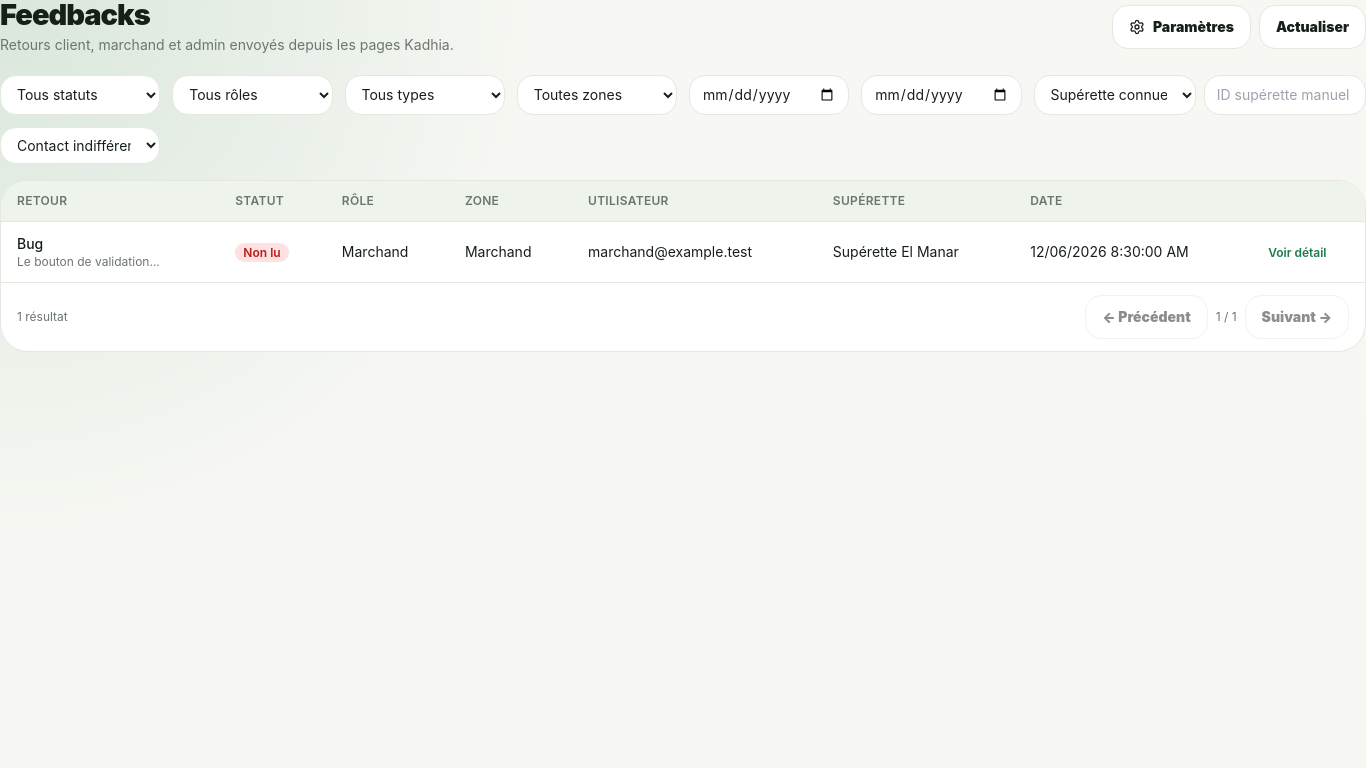
AdminFeedbacksPage › ouvre le détail via getAdminFeedback et rend les informations complètes
What coordinates should you click on to do the following:
click the button "Voir détail"
I would click on:
 (1297, 253)
Its box is top-left (1268, 245), bottom-right (1326, 261).
(page scrolled)
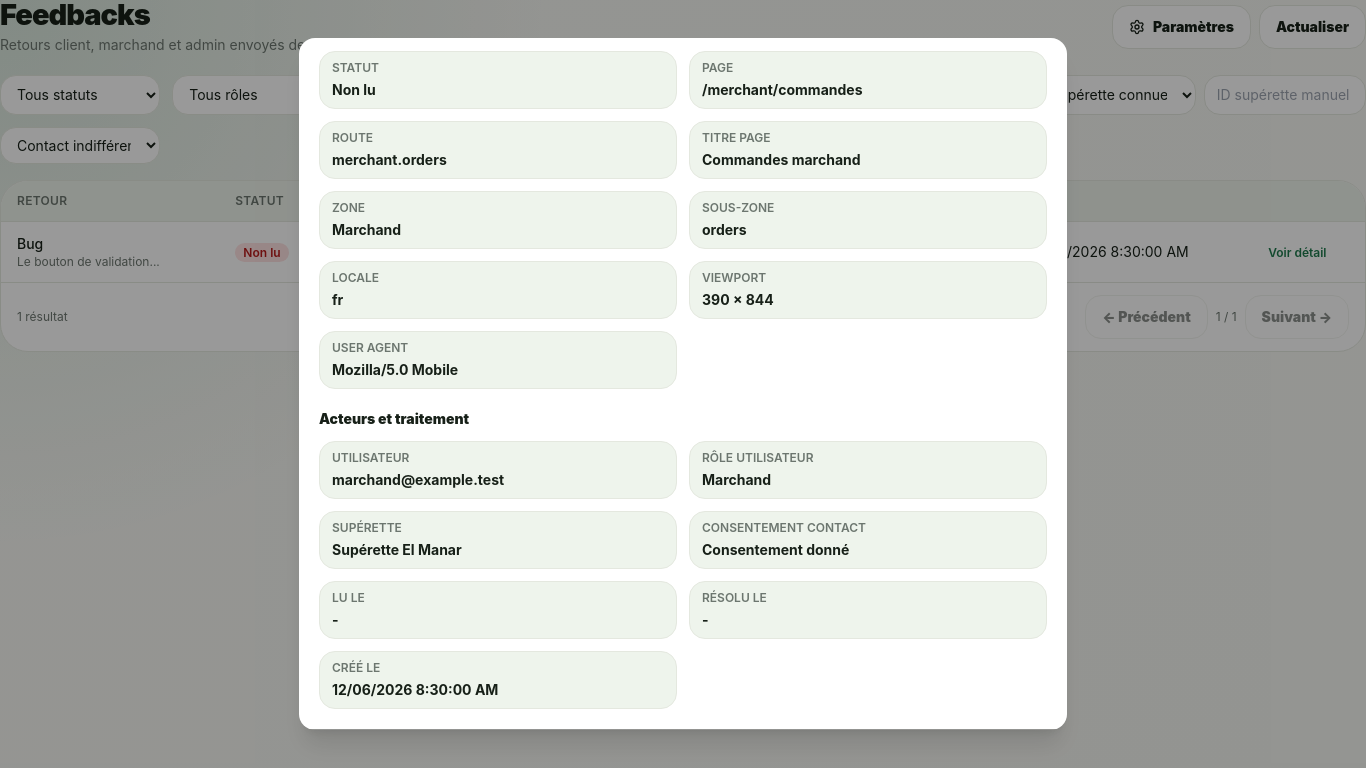
Check: the text "Utilisateur" is shown, box top-left (332, 450), bottom-right (409, 465)
Check: the text "Supérette" is shown, box top-left (332, 520), bottom-right (402, 535)
Check: the text "Consentement contact" is shown, box top-left (702, 520), bottom-right (866, 535)
